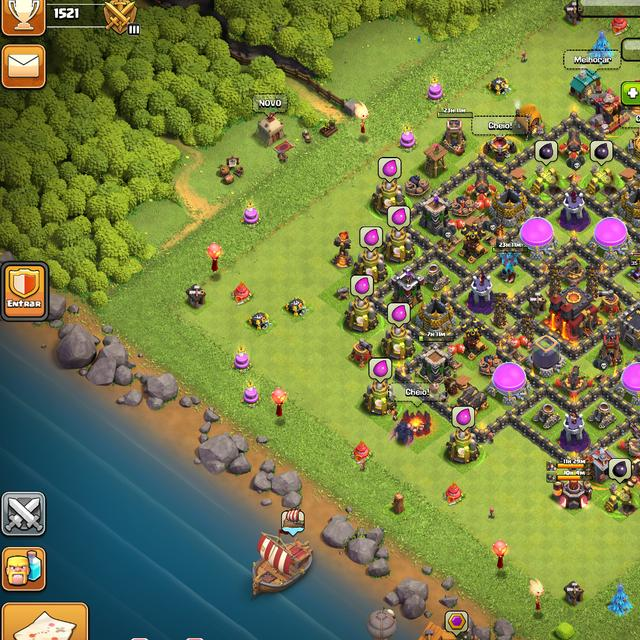Elixir: (359, 226, 384, 252), (387, 302, 411, 328), (351, 274, 374, 300), (368, 358, 392, 382), (388, 206, 411, 231), (453, 405, 475, 431), (378, 158, 401, 182)
ElixirNegro: (590, 140, 614, 166), (535, 140, 558, 166), (608, 458, 631, 483)
